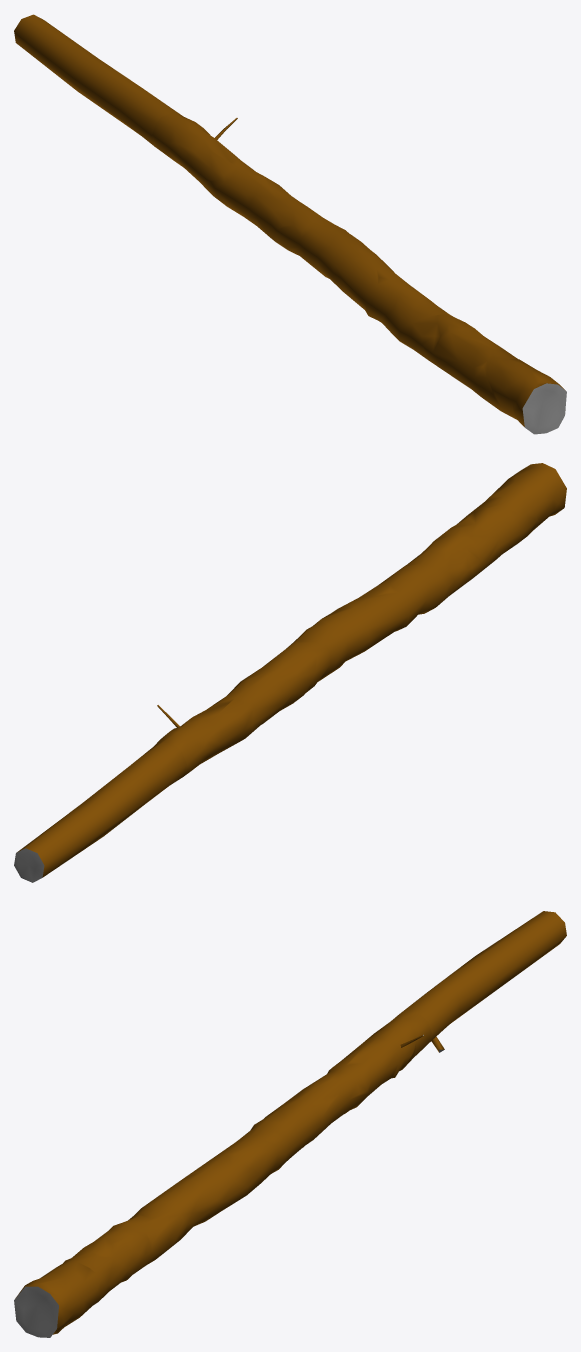
Rendered from Forest_pine_04_log.FBX.
The picture shows the model from 3 angles, top to bottom: view 1: azimuth 30°, elevation 25°; view 2: azimuth 150°, elevation 25°; view 3: azimuth 330°, elevation 25°; orthographic projection.
Visible parts, largest first — view 1: Forest_pine_04_log_LOD0; view 2: Forest_pine_04_log_LOD0; view 3: Forest_pine_04_log_LOD0.
Boxes of the visible parts, x1=… form: Forest_pine_04_log_LOD0: x1=14, y1=14, x2=566, y2=434; Forest_pine_04_log_LOD0: x1=14, y1=463, x2=566, y2=882; Forest_pine_04_log_LOD0: x1=14, y1=911, x2=566, y2=1337.
Size of what is drawn, in the model's own units: 31.92 by 455 by 28.26.
